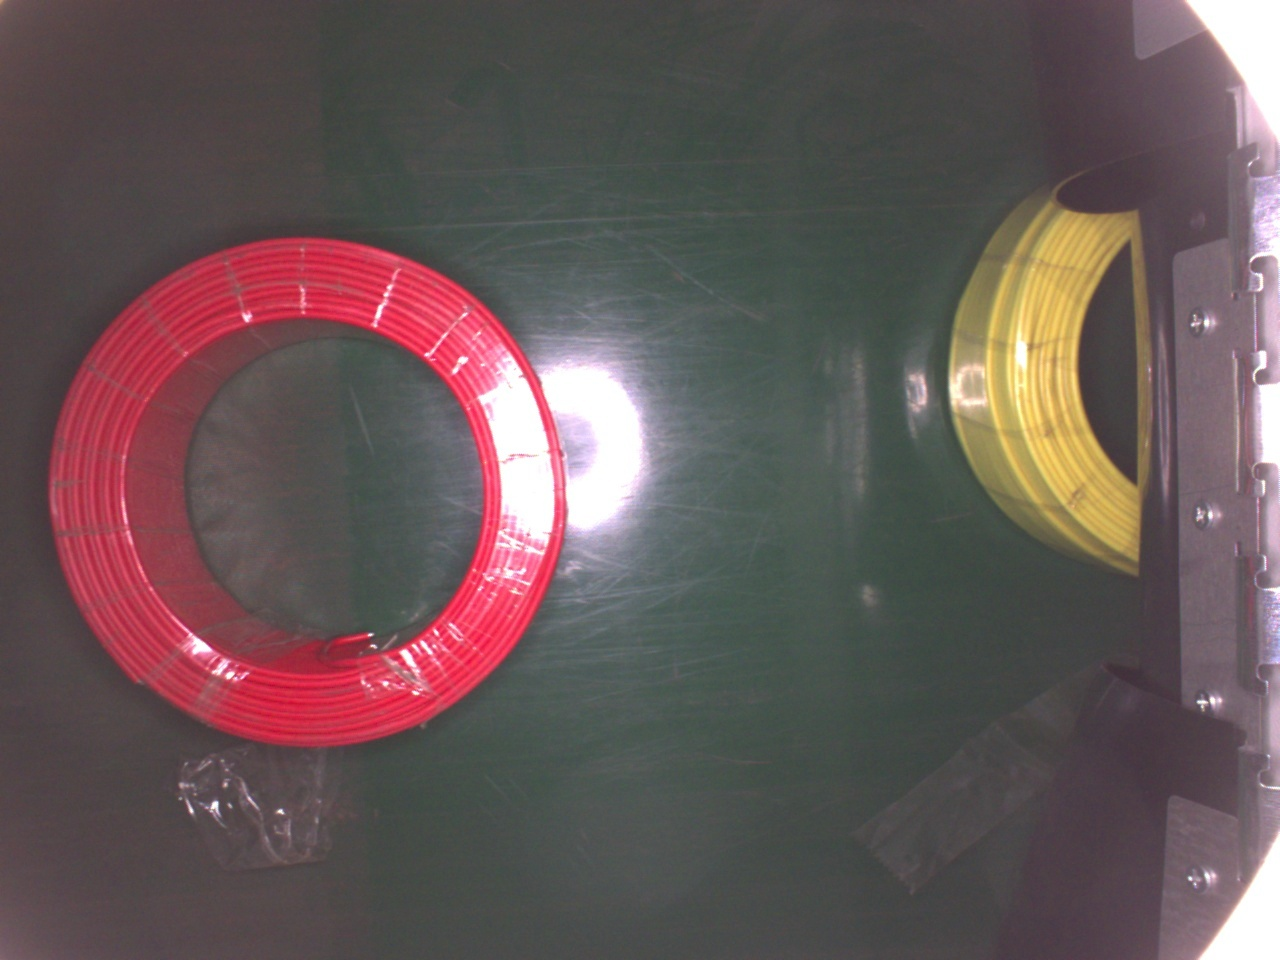red: (47, 232, 570, 745)
yellow: (948, 177, 1146, 574)
